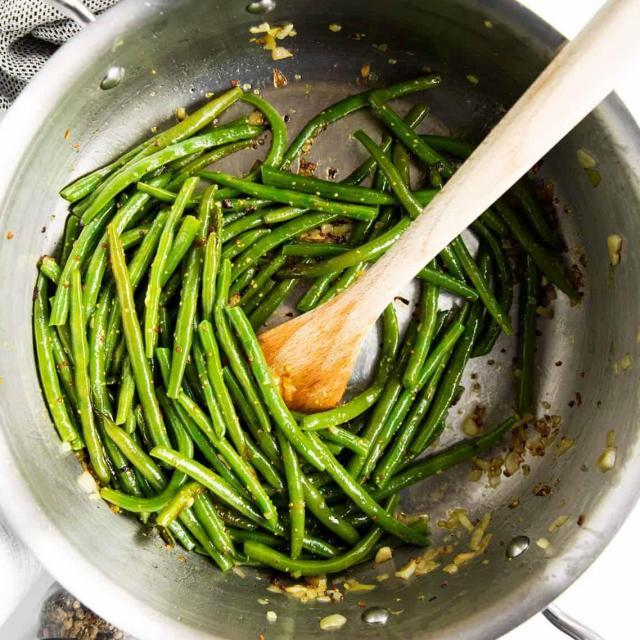Beans: (4, 72, 569, 593)
